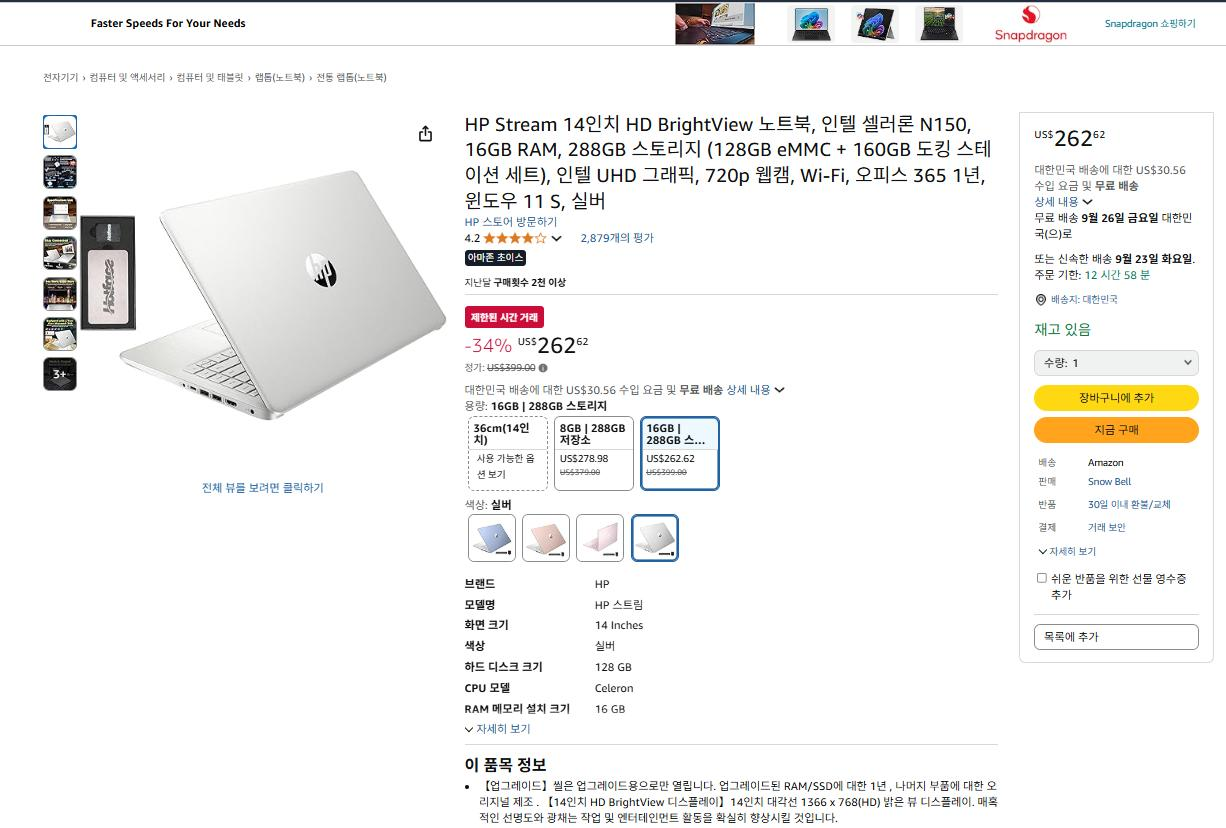button: (464, 414, 551, 495), (638, 414, 721, 495), (554, 414, 636, 495), (1032, 382, 1201, 412), (1032, 415, 1201, 445), (1032, 622, 1200, 652), (194, 476, 332, 500), (574, 512, 627, 565), (465, 512, 518, 564), (520, 512, 572, 564), (630, 512, 681, 564)
checkbox: (1032, 569, 1197, 609), (1032, 346, 1201, 378), (1033, 542, 1105, 562)
popup: (4, 4, 1221, 43)
